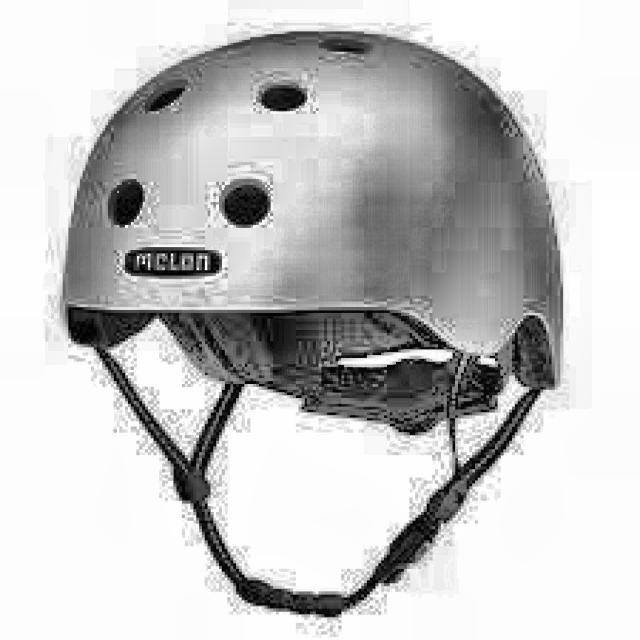Helmet: (56, 26, 582, 639)
